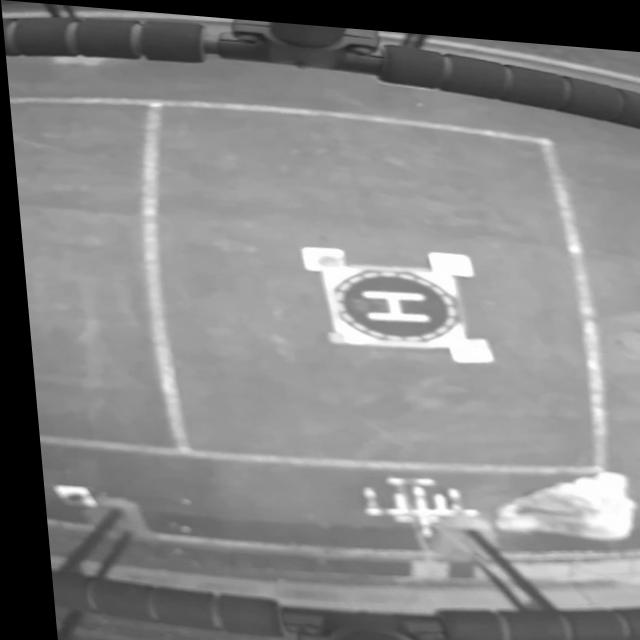Helipad: (356, 285, 425, 316)
